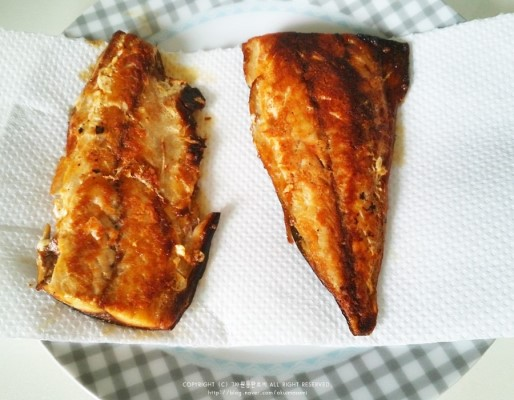godeung-eogu-i: (37, 26, 223, 328), (239, 27, 411, 336)
